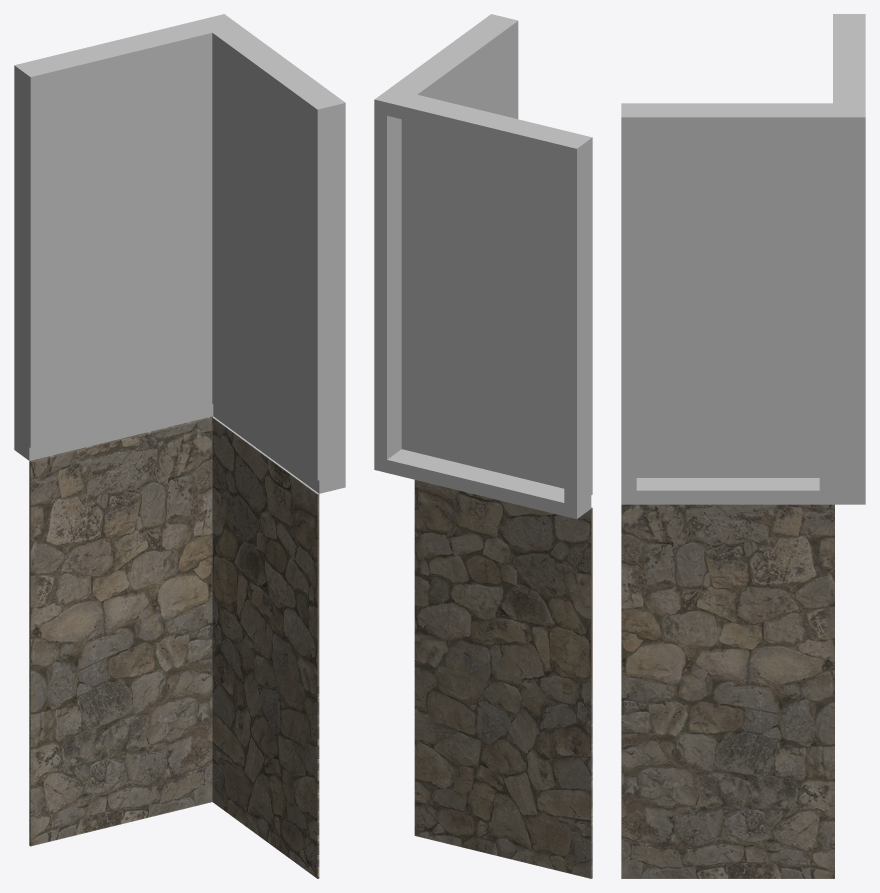
File: HouseCorner_1x1.fbx
The picture shows the model from 3 angles, left to right: view 1: azimuth 30°, elevation 25°; view 2: azimuth 150°, elevation 25°; view 3: azimuth 270°, elevation 25°; orthographic projection. The views are drawn at different scales.
Visible parts, largest first — view 1: Plane.094; view 2: Plane.094; view 3: Plane.094.
Part boxes in pixels (left/top/right/bottom): Plane.094: left=14, top=14, right=345, bottom=878; Plane.094: left=374, top=14, right=592, bottom=878; Plane.094: left=621, top=14, right=865, bottom=878.
Bounding box in the file's own units: 114 × 400 × 114.
